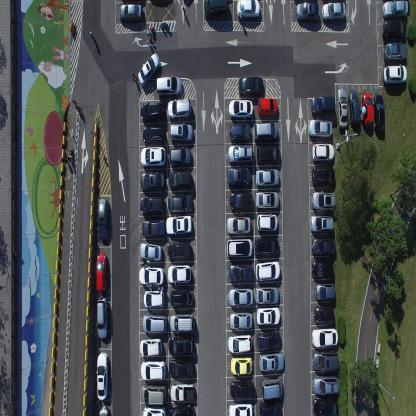car: (137, 50, 161, 86), (96, 350, 109, 401), (226, 237, 253, 260), (140, 145, 166, 168), (167, 334, 194, 356), (258, 352, 285, 374), (312, 350, 339, 372), (237, 74, 264, 96), (155, 75, 183, 96), (96, 296, 109, 341), (140, 99, 164, 123), (167, 97, 192, 120), (166, 216, 192, 238), (310, 237, 336, 259), (227, 98, 253, 120), (312, 375, 339, 396), (381, 0, 409, 20), (98, 197, 110, 243), (119, 0, 143, 23), (254, 120, 278, 143), (256, 331, 281, 353), (255, 262, 280, 284), (168, 192, 193, 214), (229, 191, 254, 213), (311, 190, 336, 212), (310, 94, 335, 116), (140, 384, 166, 405), (139, 196, 165, 217), (255, 144, 281, 165), (311, 327, 338, 347), (95, 251, 108, 292), (312, 141, 335, 164), (229, 356, 253, 378), (168, 263, 192, 285), (261, 377, 283, 401), (296, 2, 320, 24), (382, 20, 406, 42), (383, 64, 407, 86), (227, 214, 251, 236), (226, 166, 250, 188), (311, 165, 335, 187), (308, 118, 332, 140), (228, 144, 252, 166), (255, 308, 280, 329), (229, 380, 254, 401), (169, 123, 194, 144), (236, 0, 261, 21), (227, 287, 253, 307), (140, 361, 166, 381), (168, 358, 194, 378), (168, 313, 194, 333), (141, 314, 167, 334), (138, 266, 164, 286), (336, 87, 348, 130), (312, 396, 339, 415), (169, 146, 192, 168), (142, 123, 165, 145), (322, 1, 345, 23), (169, 288, 193, 309), (254, 287, 278, 308), (228, 264, 252, 285), (168, 169, 192, 190), (383, 42, 407, 63), (255, 167, 279, 188), (169, 384, 194, 404), (255, 236, 280, 256), (255, 191, 281, 210), (141, 172, 164, 193), (227, 334, 251, 354), (228, 311, 252, 331), (168, 240, 192, 260), (138, 337, 162, 357), (310, 214, 334, 234), (203, 0, 229, 18), (362, 92, 374, 131), (314, 282, 336, 303), (256, 212, 278, 233), (229, 122, 251, 143), (348, 90, 360, 127), (258, 96, 278, 118), (374, 92, 385, 132), (142, 290, 165, 309), (311, 261, 334, 280), (140, 243, 162, 262), (142, 220, 165, 238), (313, 306, 334, 324), (259, 402, 283, 416), (228, 403, 254, 415), (168, 404, 196, 415), (142, 404, 166, 415), (98, 404, 109, 415)
